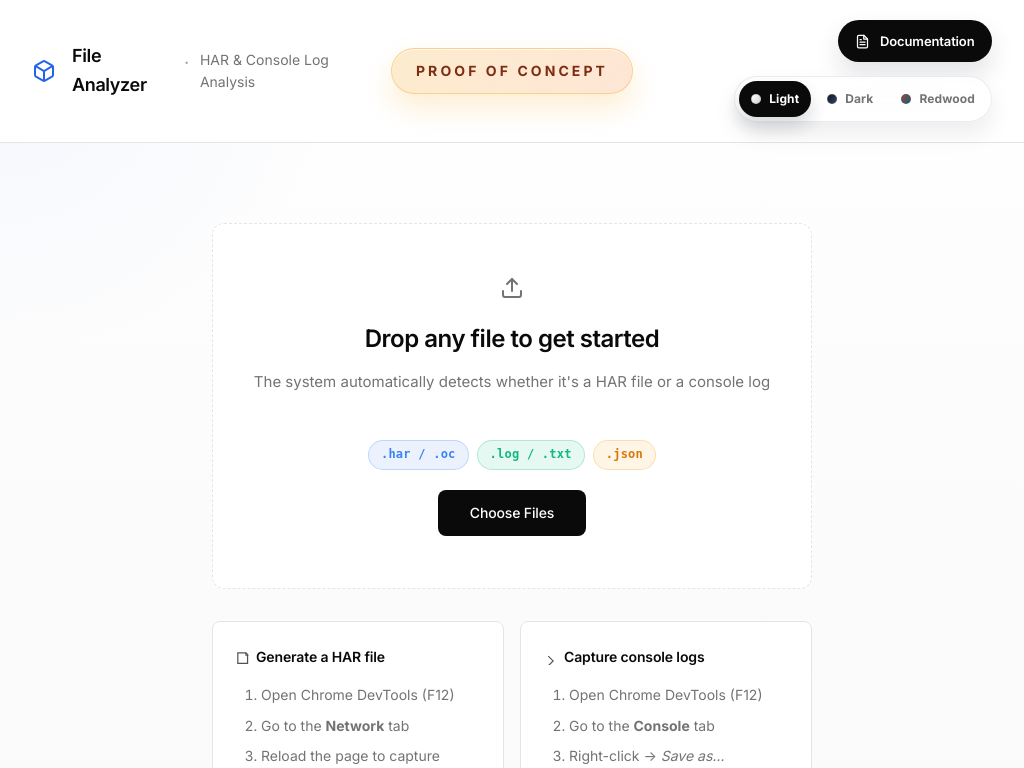
App documentation navigation › navigates to the documentation page and back from the header control
The image size is (1024, 768).
Expected: the heading "Drop any file to get started" is shown, [365, 320, 659, 358]
Expected: the text "Proof of Concept" is shown, [391, 48, 633, 94]
Step 1. Click the button "Documentation" → (915, 41), box [838, 20, 992, 62]
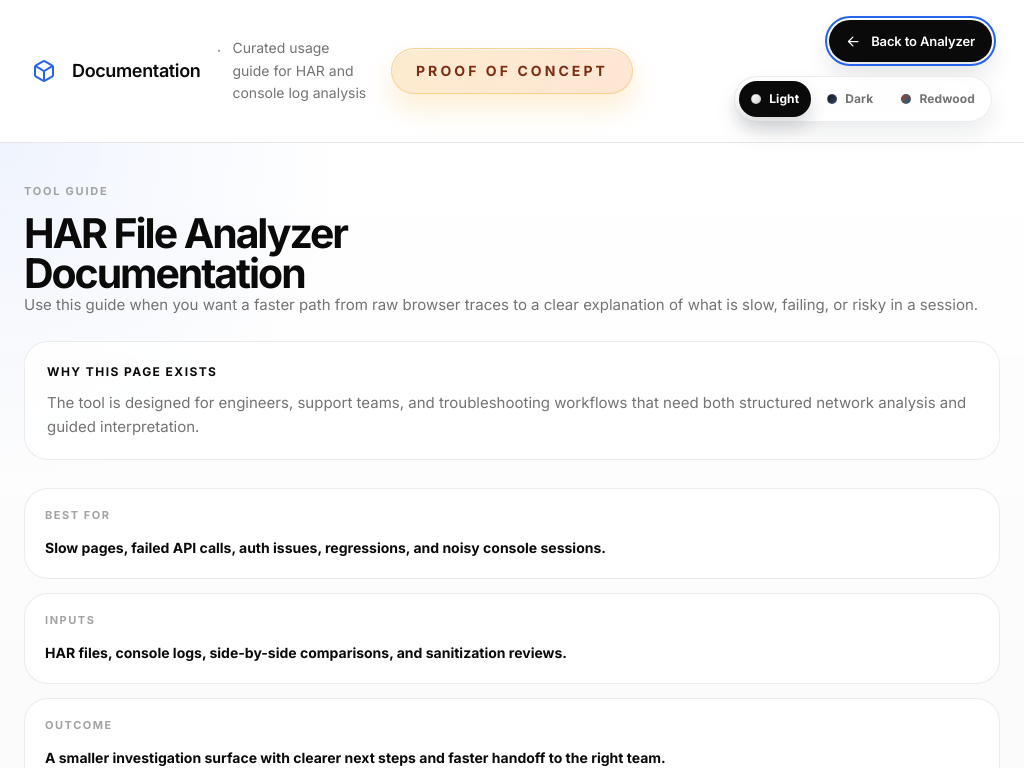
Expected: the text "Proof of Concept" is shown, [391, 48, 633, 94]
Expected: the heading "HAR File Analyzer Documentation" is shown, [24, 213, 355, 293]
Step 2. Click the button "Back to Analyzer" → (911, 41), box [829, 20, 992, 62]
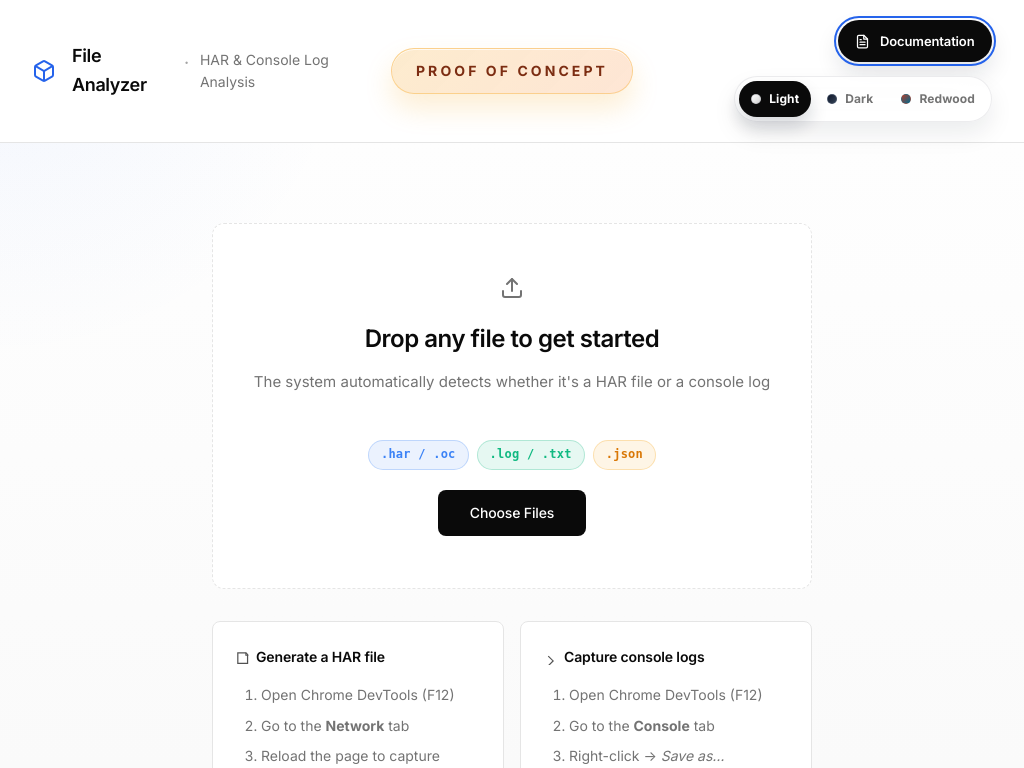
Expected: the heading "Drop any file to get started" is shown, [365, 320, 659, 358]
